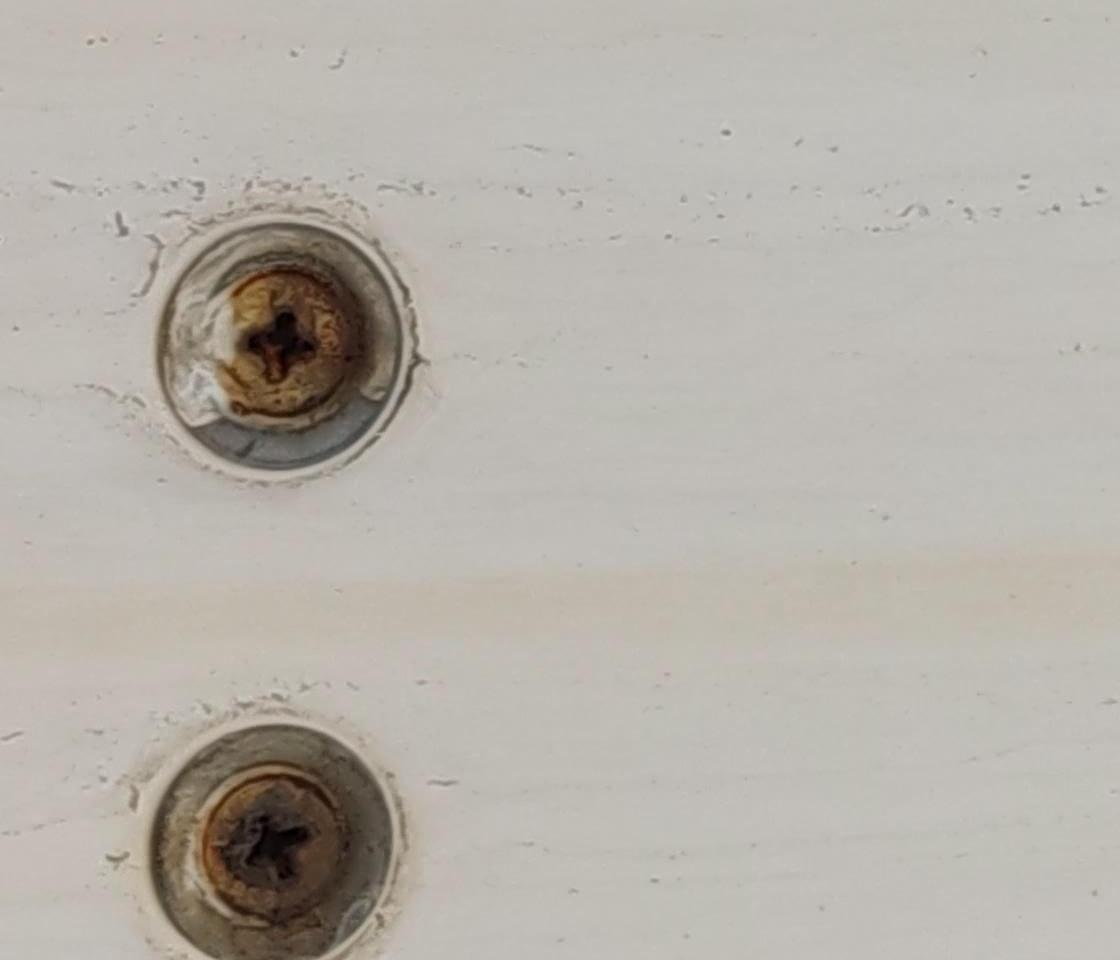rivet_damage: (152, 217, 420, 482), (138, 717, 403, 960)
